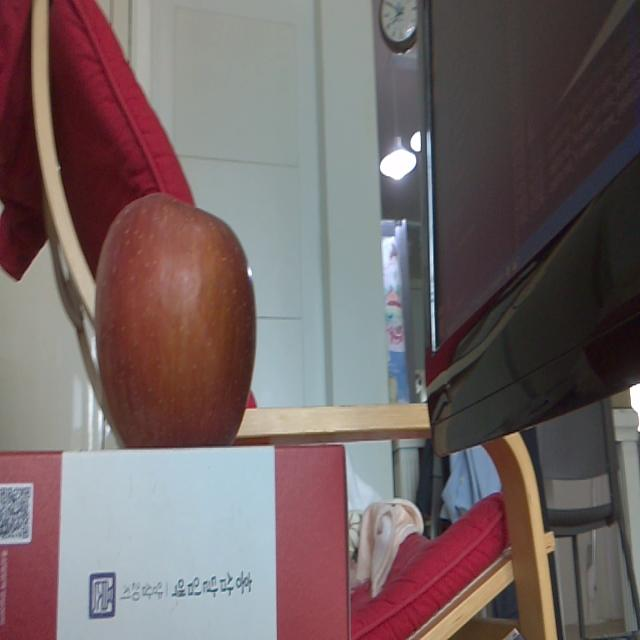apple: (93, 190, 257, 446)
